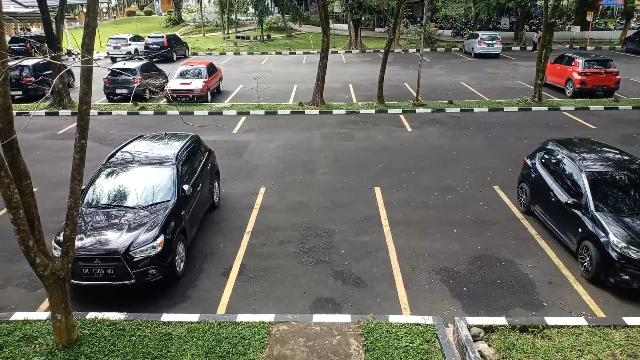empty: (240, 178, 388, 312), (387, 180, 525, 312), (405, 108, 579, 132), (236, 112, 404, 132), (228, 81, 296, 103), (413, 81, 477, 101), (478, 80, 536, 100), (294, 84, 352, 103), (352, 85, 412, 103), (421, 43, 461, 60), (304, 49, 344, 64), (265, 51, 305, 65), (343, 49, 382, 63), (223, 52, 265, 64)
occupied: (70, 174, 240, 312), (526, 166, 640, 316), (541, 56, 619, 100), (161, 68, 229, 102), (463, 38, 505, 60)
